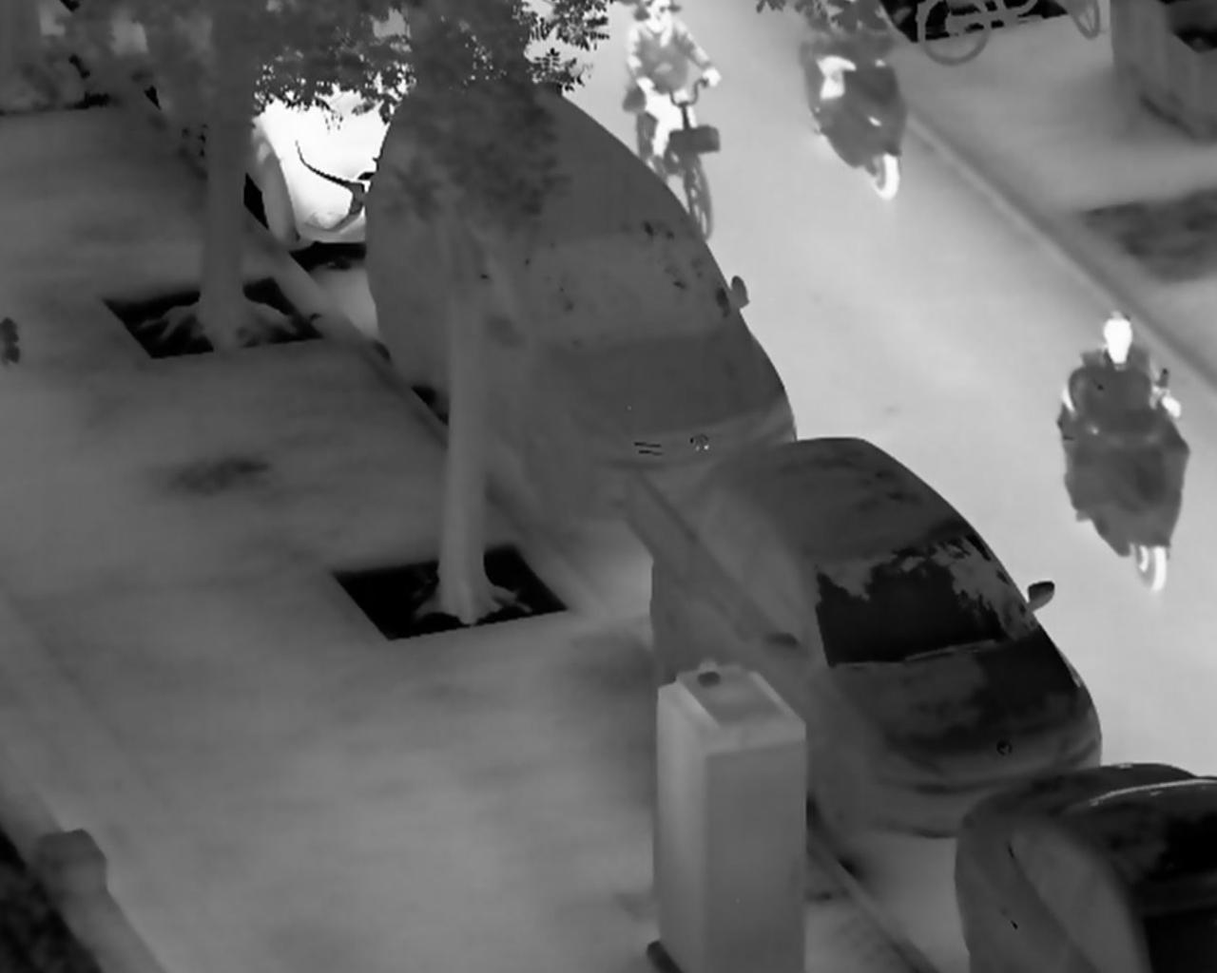person: (1055, 307, 1189, 524)
